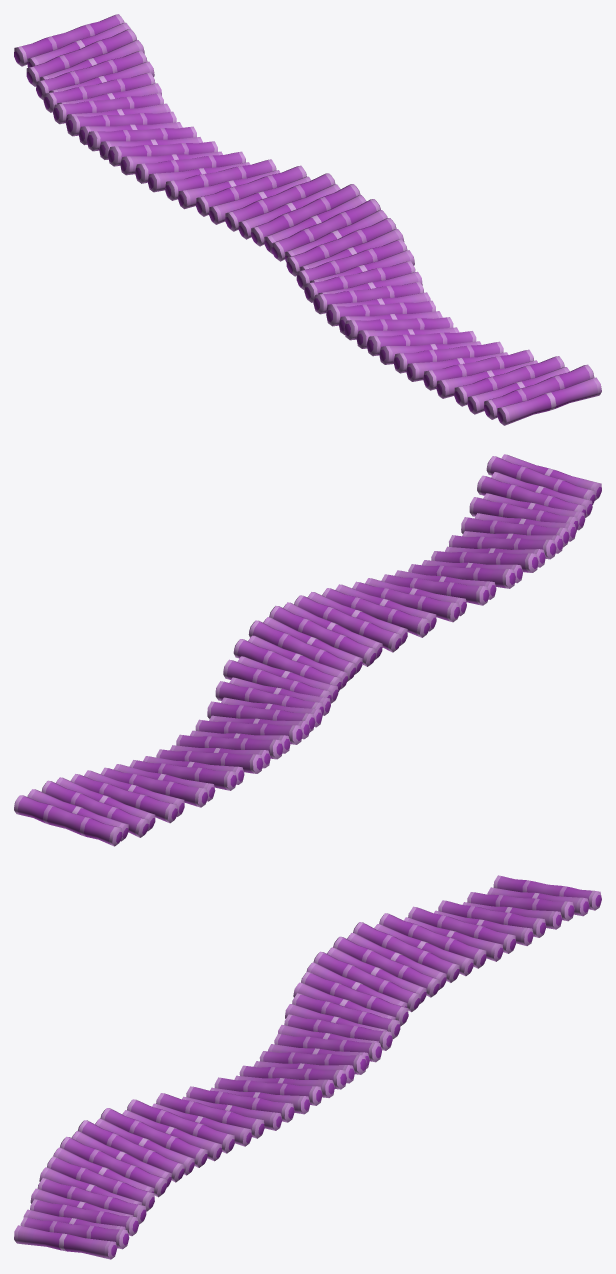
File: Bridge_01.glb
3 renders of one model, top to bottom at view 1: azimuth 30°, elevation 25°; view 2: azimuth 150°, elevation 25°; view 3: azimuth 330°, elevation 25°, orthographic. The views are drawn at different scales.
Visible parts, largest first — view 1: Bridge_01; view 2: Bridge_01; view 3: Bridge_01.
Boxes of the visible parts, x1,y1,x2,y2 form: Bridge_01: (14, 14, 601, 425); Bridge_01: (14, 454, 601, 846); Bridge_01: (14, 875, 601, 1259).
Bounding box in the file's own units: 4.41 × 1.11 × 24.7.
1 material, 1 textured.
